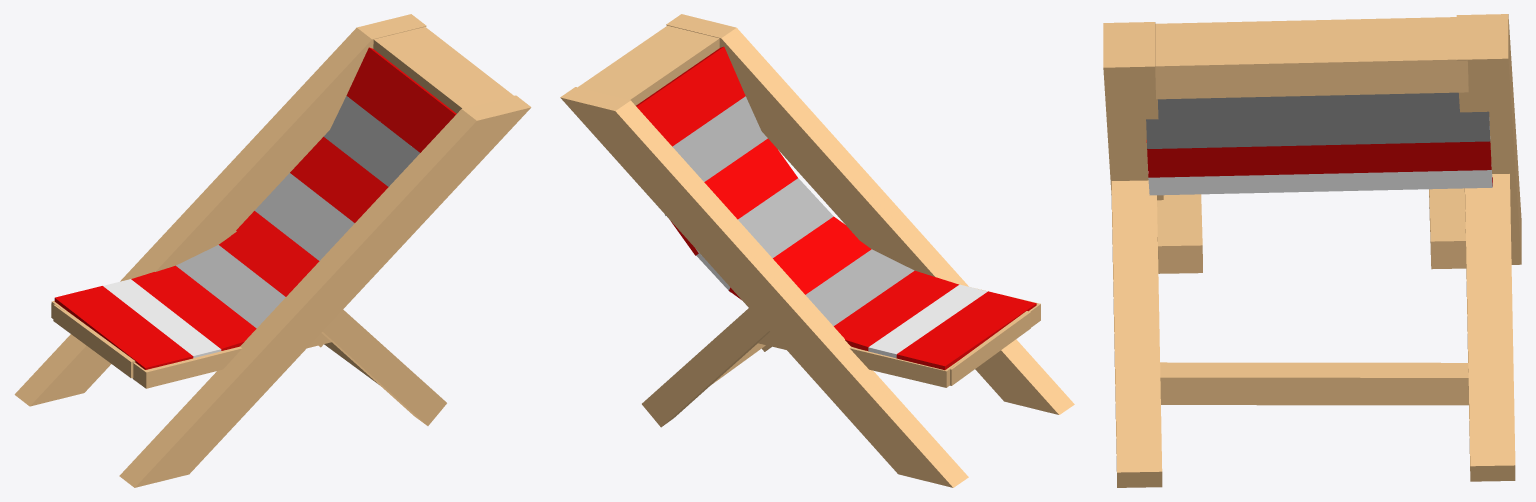
Rendered from sunchairmodel.fbx.
The picture shows the model from 3 angles, left to right: view 1: azimuth 30°, elevation 25°; view 2: azimuth 150°, elevation 25°; view 3: azimuth 270°, elevation 25°; orthographic projection. The views are drawn at different scales.
Parts seen in each view (by area): view 1: Cube__1_, Cube_3, Cube__1__1, Cube_1, Cube__8_, Cube, Cube__6_, Cube__3__1, Cube__2_, Cube__4_, Cube__1__2, Cube__5__1 (+3 smaller); view 2: Cube_3, Cube__1_, Cube_1, Cube__1__1, Cube__3_, Cube__8_, Cube__6_, Cube__3__1, Cube__2_, Cube__1__2, Cube__4_, Cube__5__1 (+3 smaller); view 3: Cube__1__1, Cube__1__2, Cube, Cube__3_, Cube__1__3, Cube__2_, Cube_3, Cube__1_, Cube__3__1, Cube__5_, Cube__2__1.
Boxes of the visible parts, <box> form: Cube__1_: <box>119,95,531,487</box>; Cube_3: <box>14,14,426,406</box>; Cube__1__1: <box>373,27,513,113</box>; Cube_1: <box>346,47,456,152</box>; Cube__8_: <box>54,286,193,369</box>; Cube: <box>321,309,446,425</box>; Cube__6_: <box>131,265,256,350</box>; Cube__3__1: <box>254,173,354,260</box>; Cube__2_: <box>290,136,388,222</box>; Cube__4_: <box>219,211,319,296</box>; Cube__1__2: <box>324,96,419,186</box>; Cube__5__1: <box>176,245,285,328</box>; Cube_3: <box>560,87,968,487</box>; Cube__1_: <box>666,14,1074,414</box>; Cube_1: <box>636,46,745,146</box>; Cube__1__1: <box>578,25,719,105</box>; Cube__3_: <box>642,308,769,427</box>; Cube__8_: <box>896,291,1036,370</box>; Cube__6_: <box>834,270,958,350</box>; Cube__3__1: <box>696,178,833,292</box>; Cube__2_: <box>669,138,797,255</box>; Cube__1__2: <box>665,96,767,215</box>; Cube__4_: <box>729,216,871,299</box>; Cube__5__1: <box>806,249,914,326</box>; Cube__1__1: <box>1155,17,1468,99</box>; Cube__1__2: <box>1146,92,1490,148</box>; Cube: <box>1111,180,1162,487</box>; Cube__3_: <box>1464,174,1515,481</box>; Cube__1__3: <box>1160,362,1468,405</box>; Cube__2_: <box>1146,140,1491,177</box>; Cube_3: <box>1456,14,1521,264</box>; Cube__1_: <box>1103,22,1163,200</box>; Cube__3__1: <box>1148,165,1492,195</box>; Cube__5_: <box>1157,194,1202,273</box>; Cube__2__1: <box>1429,188,1466,269</box>.
Bounding box in the file's own units: 168 × 123 × 91.56.
